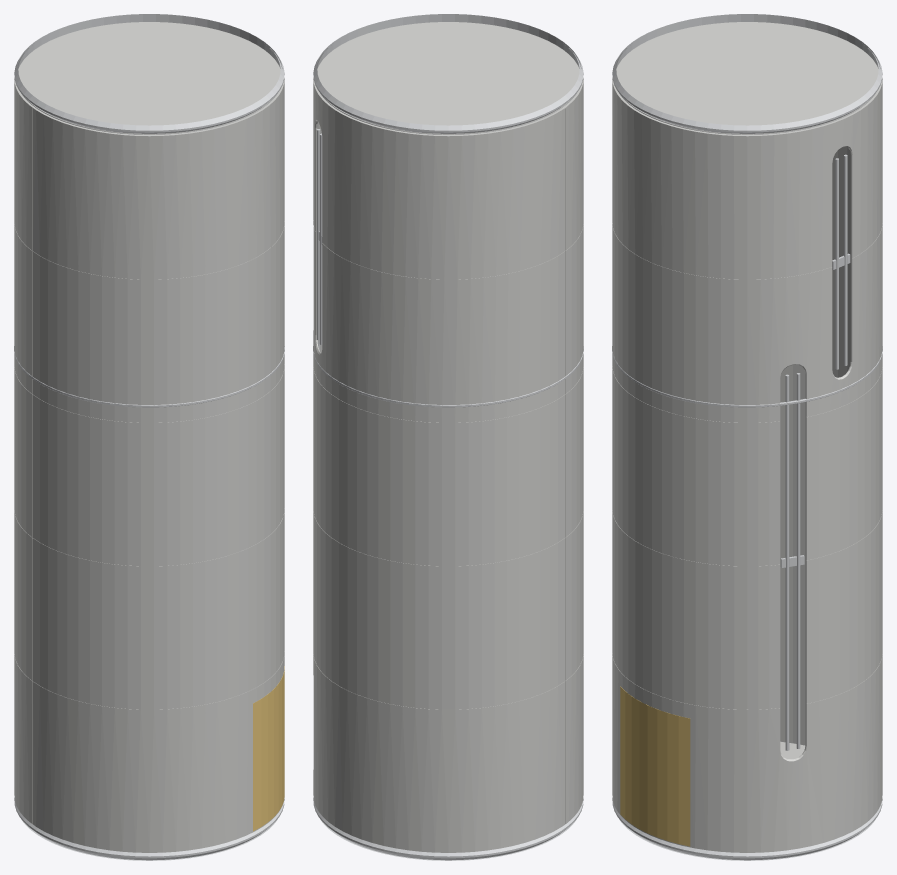
The model's file is ax_tank_03_heavy_methalox_xxl_long.glb.
The picture shows the model from 3 angles, left to right: view 1: azimuth 30°, elevation 25°; view 2: azimuth 150°, elevation 25°; view 3: azimuth 270°, elevation 25°; orthographic projection.
Parts seen in each view (by area): view 1: tank_barrel, dome_caps, end_rings, mli_patch, common_bulkhead_ring; view 2: tank_barrel, dome_caps, end_rings, raceway_lines, common_bulkhead_ring; view 3: tank_barrel, dome_caps, mli_patch, end_rings, raceway_lines, common_bulkhead_ring.
Part boxes in pixels (box(x1,y1,x2,y2)): tank_barrel: box(14, 77, 284, 852); dome_caps: box(18, 22, 280, 852); end_rings: box(14, 14, 284, 860); mli_patch: box(253, 666, 284, 831); common_bulkhead_ring: box(14, 346, 284, 407); tank_barrel: box(313, 77, 583, 852); dome_caps: box(317, 22, 579, 852); end_rings: box(313, 14, 583, 860); raceway_lines: box(316, 129, 322, 351); common_bulkhead_ring: box(313, 346, 583, 407); tank_barrel: box(612, 77, 882, 852); dome_caps: box(616, 22, 878, 852); mli_patch: box(620, 686, 690, 846); end_rings: box(612, 14, 882, 860); raceway_lines: box(780, 154, 850, 750); common_bulkhead_ring: box(612, 346, 882, 407).
Bounding box in the file's own units: 7.52 × 22.5 × 7.52.
